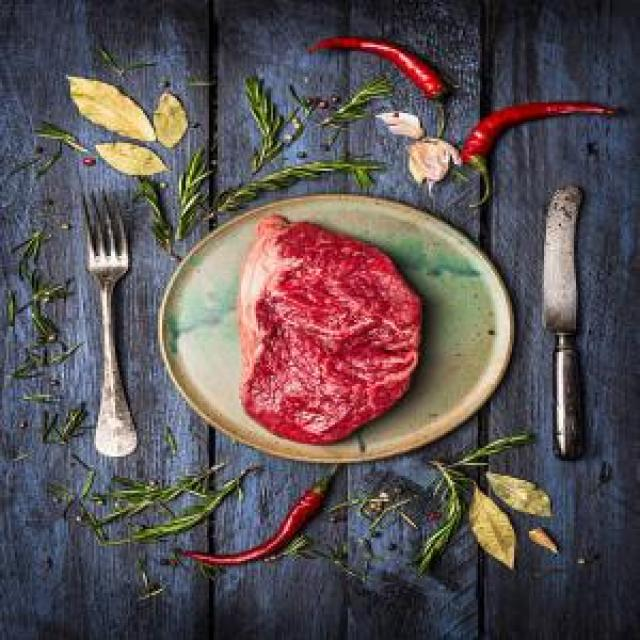knife: (540, 181, 605, 464)
